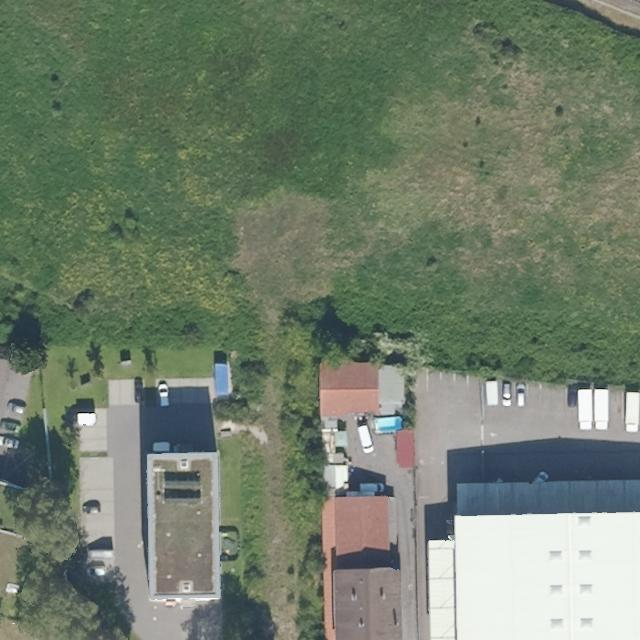PV: (163, 471, 200, 488), (164, 488, 201, 500)
